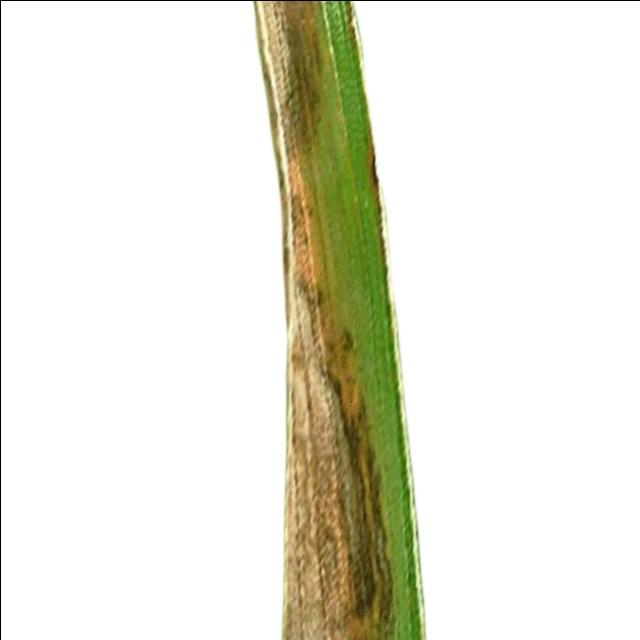Leaf scald: (178, 0, 484, 640)
